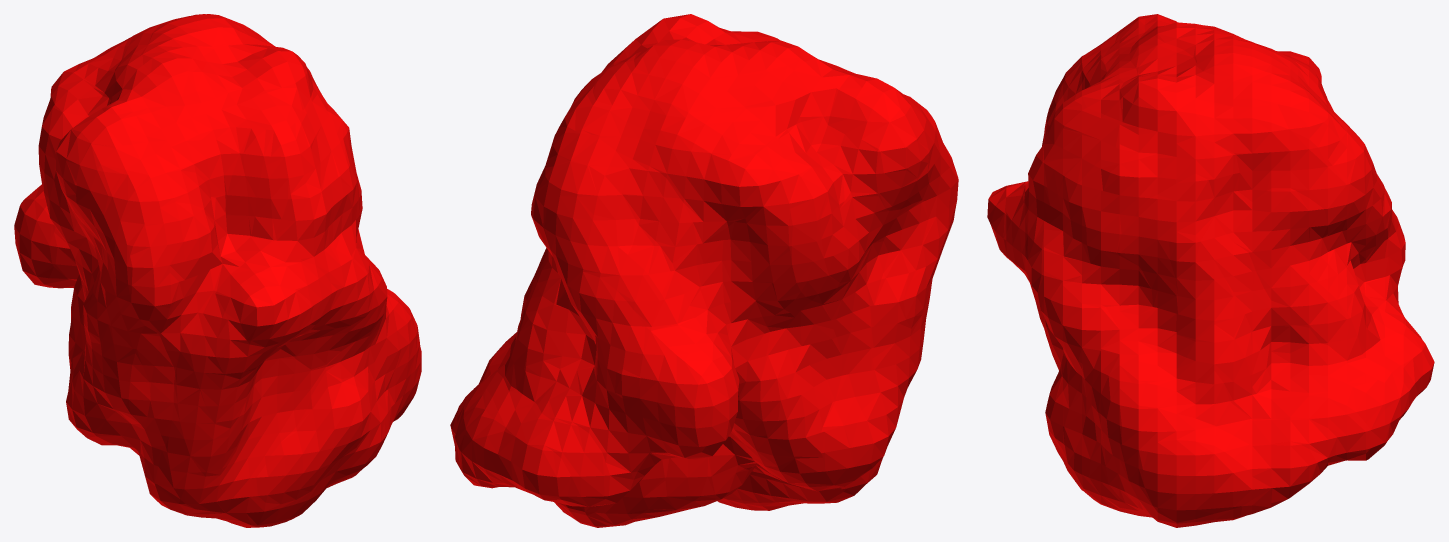
The model's file is sdaC_coarse.dae.
The picture shows the model from 3 angles, left to right: view 1: azimuth 30°, elevation 25°; view 2: azimuth 150°, elevation 25°; view 3: azimuth 270°, elevation 25°; orthographic projection. The views are drawn at different scales.
Parts seen in each view (by area): view 1: sdaC; view 2: sdaC; view 3: sdaC.
Part boxes in pixels (<box>): sdaC: <box>14,14,421,527</box>; sdaC: <box>450,14,958,527</box>; sdaC: <box>987,14,1434,527</box>.
Bounding box in the file's own units: 54.47 × 65.34 × 59.71.
